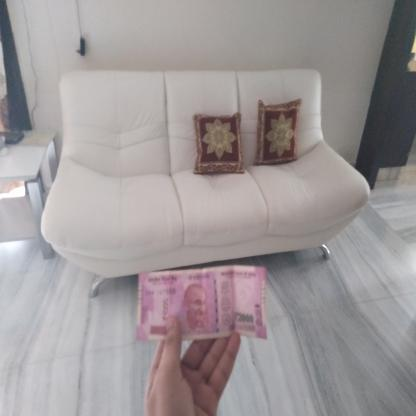New2000Front: (141, 267, 268, 341)
